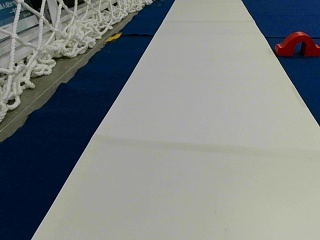bridge: (276, 31, 319, 55)
